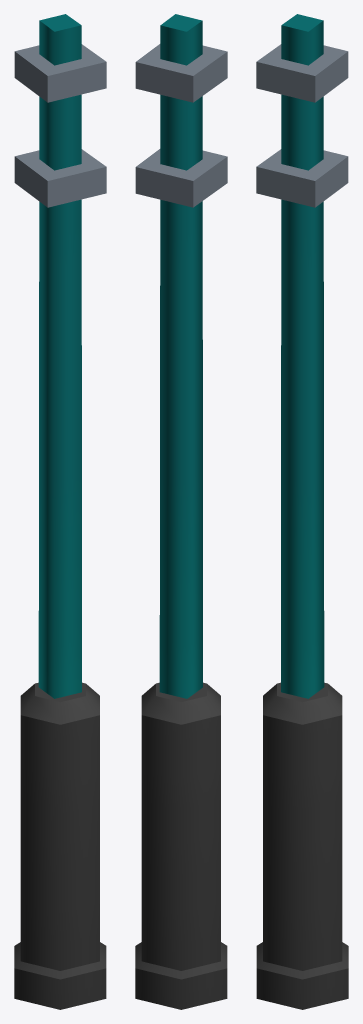
File: SignHolder_3_D.fbx
3 views of the same model, side by side, from view 1: azimuth 30°, elevation 25°; view 2: azimuth 150°, elevation 25°; view 3: azimuth 330°, elevation 25° (orthographic).
Visible parts, largest first — view 1: SignHolder_3_D; view 2: SignHolder_3_D; view 3: SignHolder_3_D.
Boxes of the visible parts, box(x1,y1,x2,y2) form: SignHolder_3_D: box(14, 14, 106, 1009); SignHolder_3_D: box(135, 14, 227, 1009); SignHolder_3_D: box(256, 14, 348, 1009).
Bounding box in the file's own units: 28.06 × 281 × 24.3.
